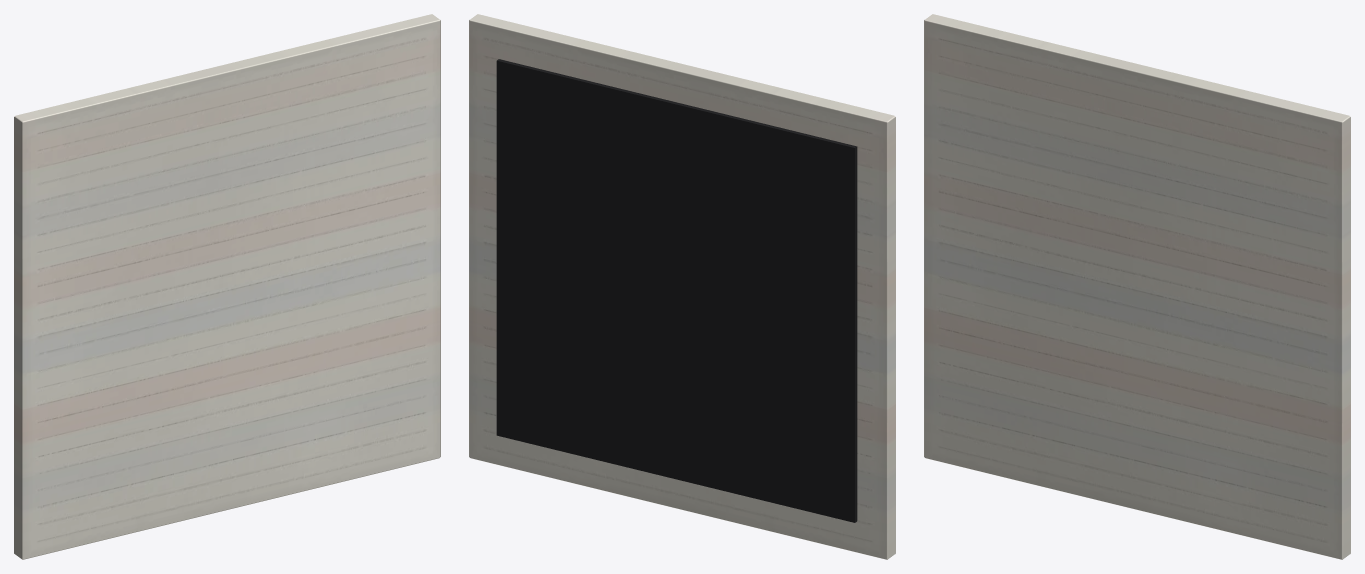
The model's file is art_pencil_grid.gltf.
The picture shows the model from 3 angles, left to right: view 1: azimuth 30°, elevation 25°; view 2: azimuth 150°, elevation 25°; view 3: azimuth 330°, elevation 25°; orthographic projection.
Visible parts, largest first — view 1: Art_PencilGrid_Art; view 2: Art_PencilGrid_Spacer, Art_PencilGrid_Art; view 3: Art_PencilGrid_Art.
Boxes of the visible parts, box(x1,y1,x2,y2) form: Art_PencilGrid_Art: box(14, 14, 440, 559); Art_PencilGrid_Spacer: box(496, 59, 857, 522); Art_PencilGrid_Art: box(469, 14, 895, 559); Art_PencilGrid_Art: box(924, 14, 1350, 559).
Bounding box in the file's own units: 1.1 × 1.1 × 0.05.
2 materials, 1 textured.
